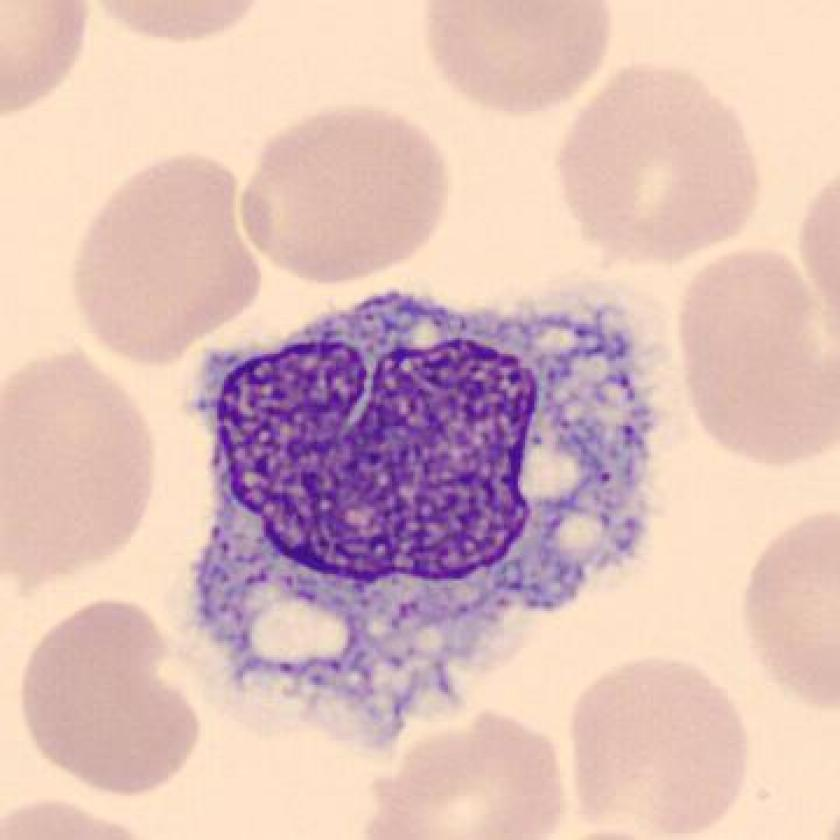monocyte: (165, 246, 676, 774)
